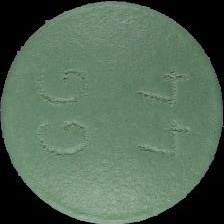0615-0829: (0, 0, 224, 224)
